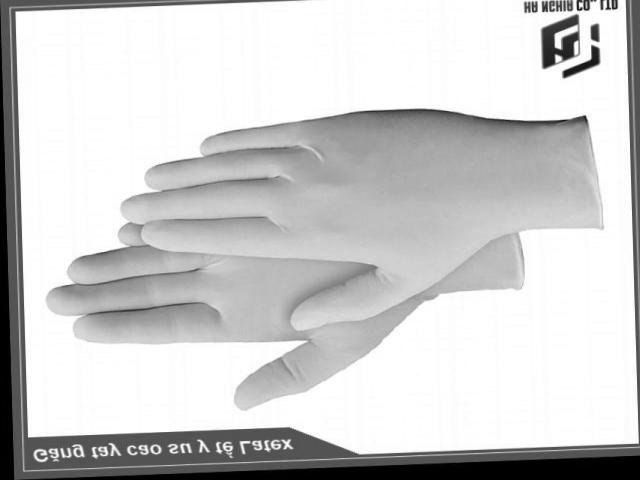gloved: (113, 106, 486, 330), (43, 209, 424, 411)
